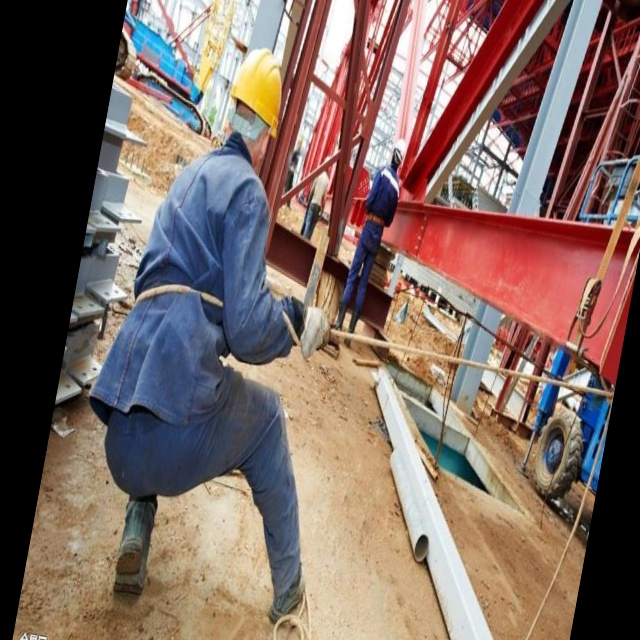Con_Casco: (221, 39, 293, 161), (390, 134, 409, 172)
Sin_Chaleco: (107, 150, 277, 498)
